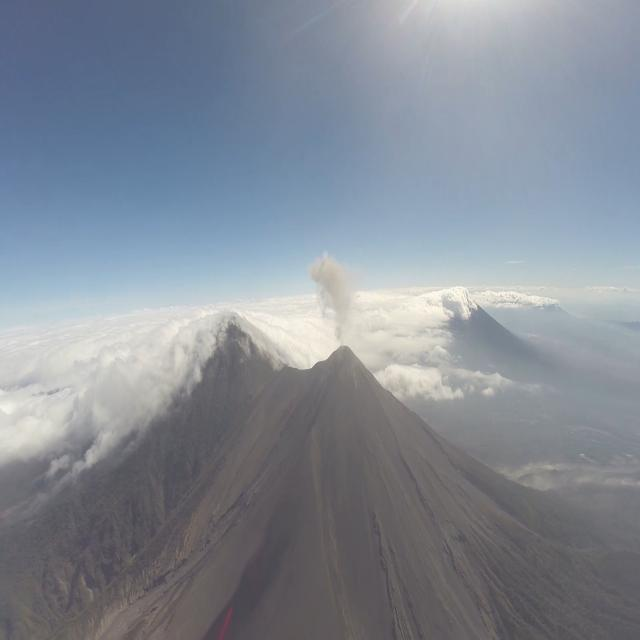Plume: (309, 246, 355, 348)
Summit: (310, 343, 382, 391)
